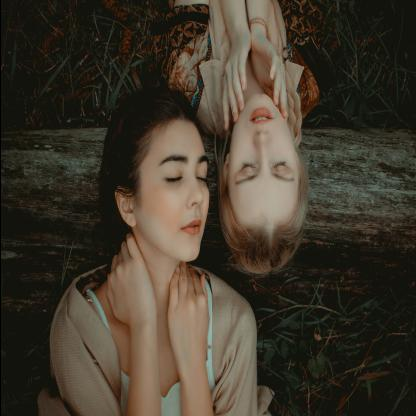Eye: (163, 170, 183, 183), (271, 161, 288, 172), (239, 163, 257, 173), (195, 171, 205, 183)
Mouth: (248, 107, 274, 125), (179, 219, 201, 235)
Nose: (185, 171, 203, 210), (252, 131, 270, 167)
